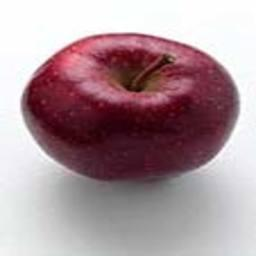apple: (22, 33, 239, 184)
